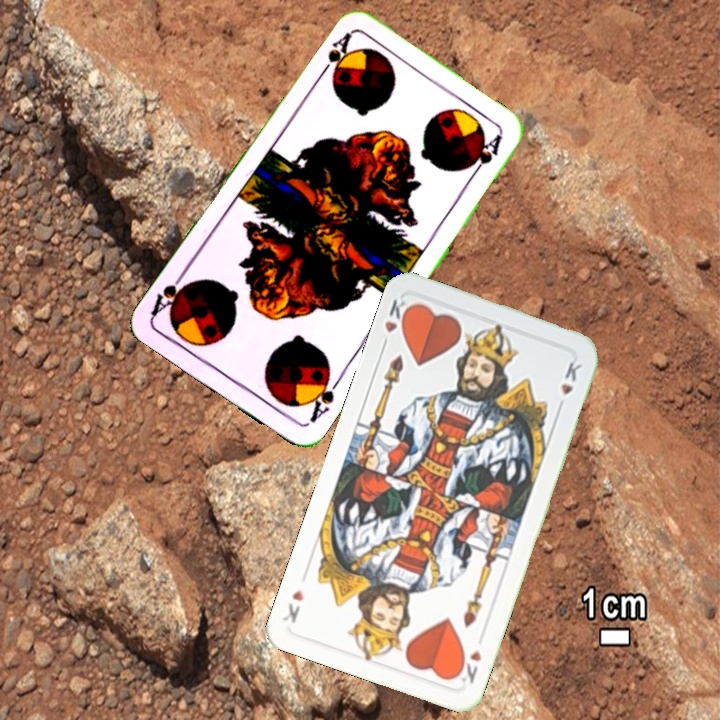HK: (380, 295, 414, 337), (452, 646, 484, 686)
SA: (303, 368, 343, 426), (314, 28, 354, 81)
